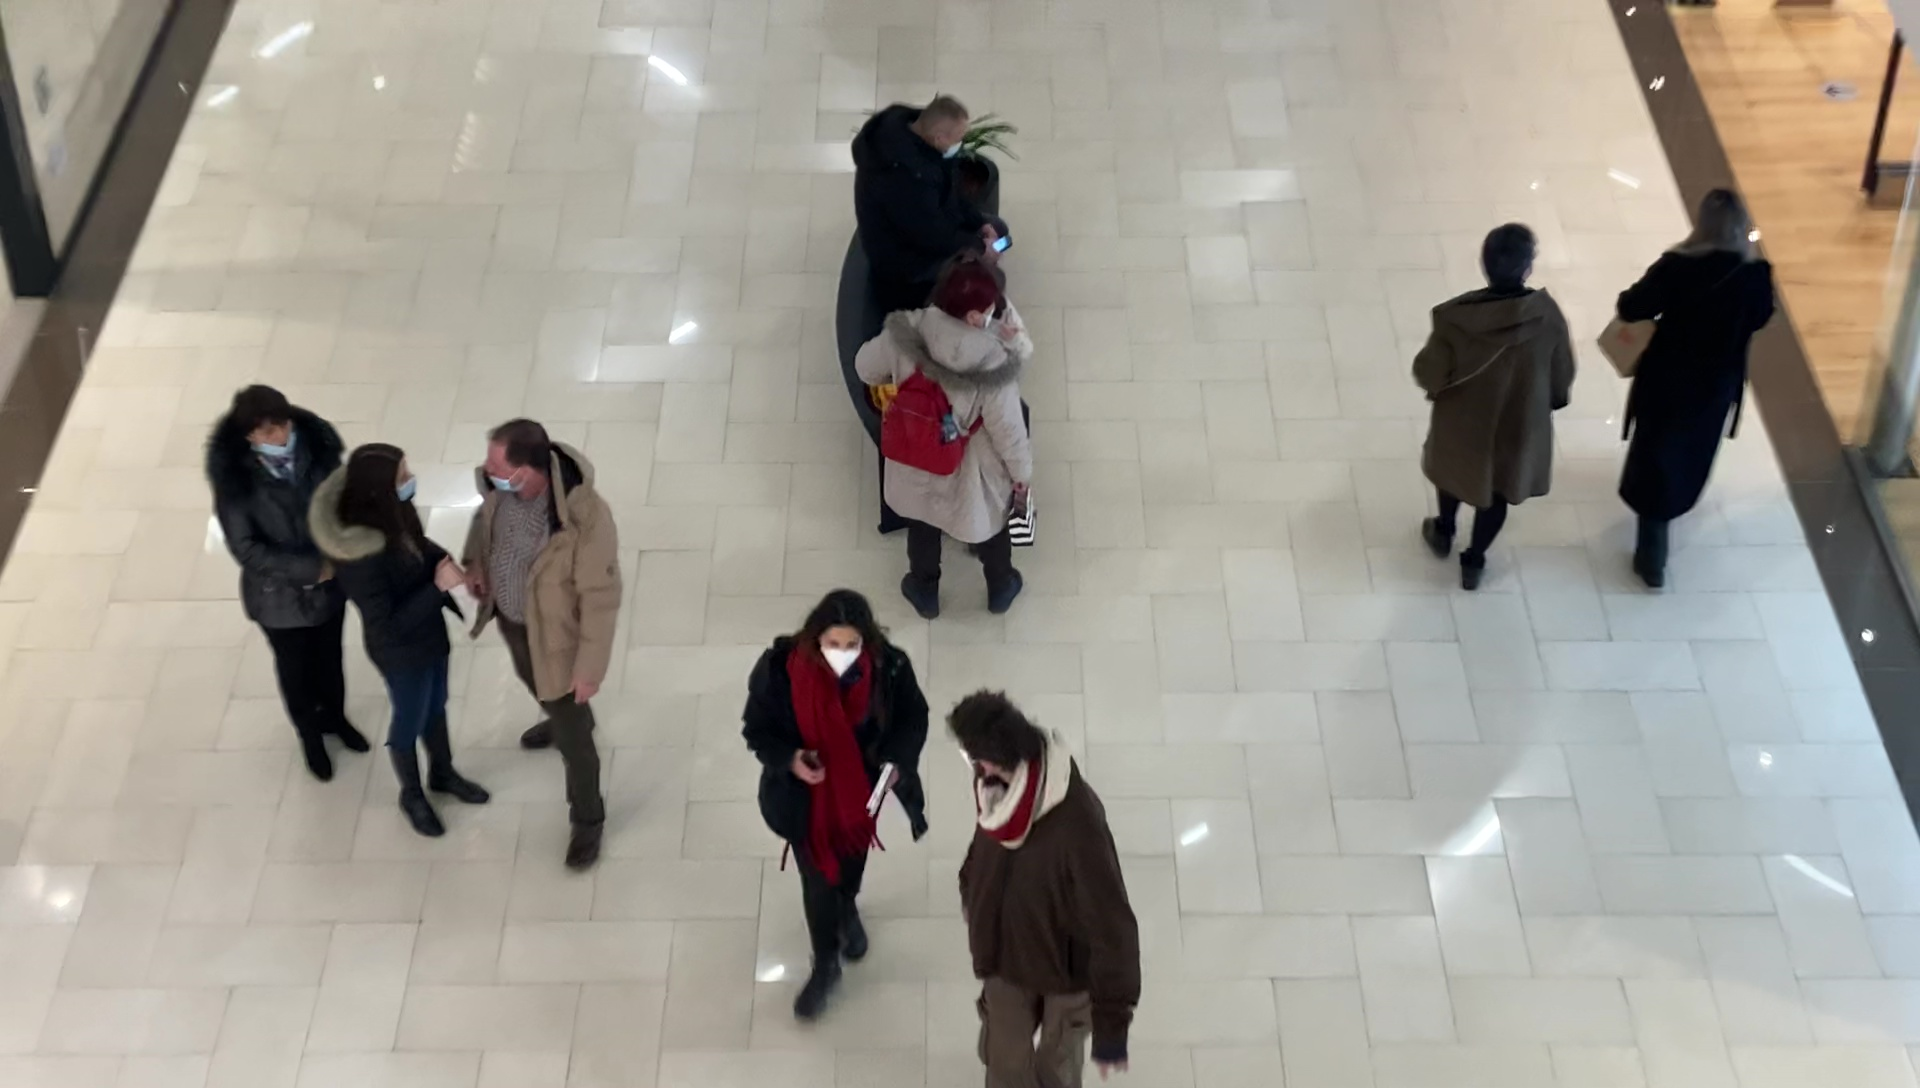person: (743, 588, 929, 1014), (944, 690, 1142, 1088), (461, 419, 626, 872), (317, 445, 489, 840), (201, 382, 371, 780), (1618, 188, 1777, 589), (1413, 222, 1575, 593)
